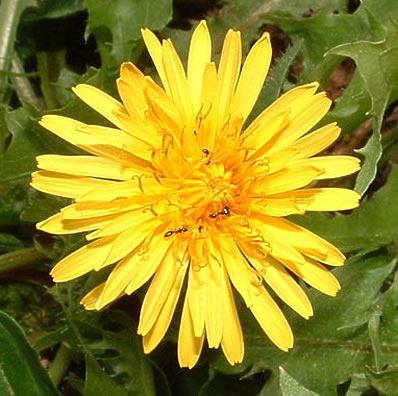dandelion: (35, 34, 337, 361)
